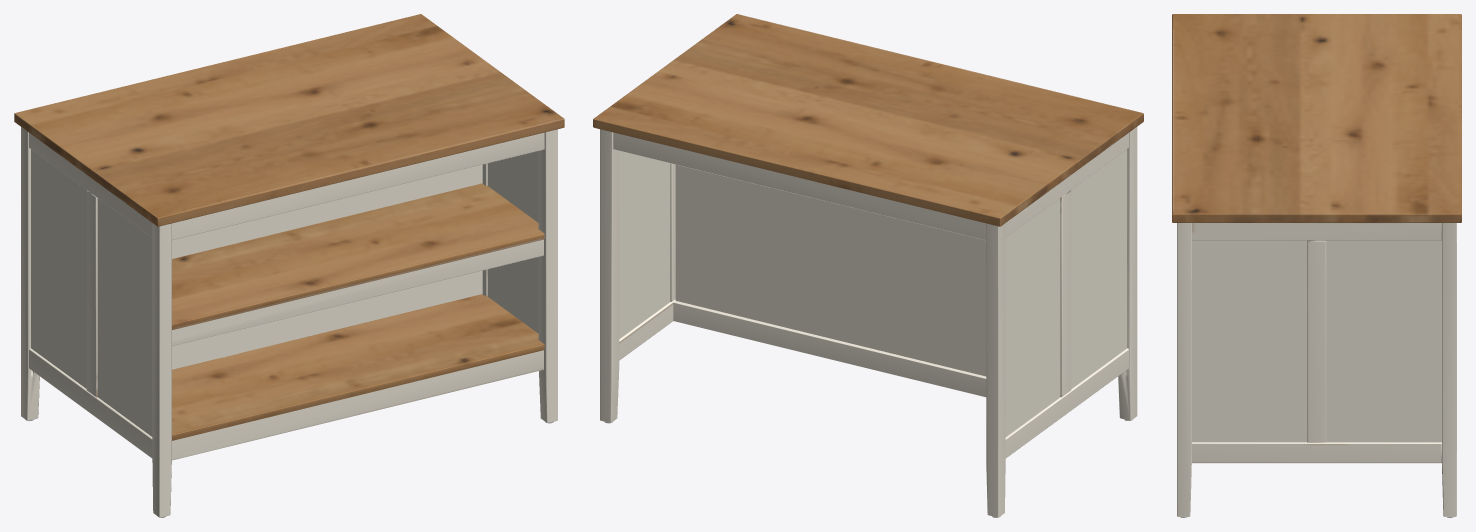
The model's file is 24 - TORNVIKEN Kitchen island - off-whiteoak 126x77 cm.glb.
The picture shows the model from 3 angles, left to right: view 1: azimuth 30°, elevation 25°; view 2: azimuth 150°, elevation 25°; view 3: azimuth 270°, elevation 25°; orthographic projection.
Parts seen in each view (by area): view 1: Mesh_0; view 2: Mesh_0; view 3: Mesh_0.
Part boxes in pixels (box(x1,y1,x2,y2)): Mesh_0: box(14, 14, 564, 517); Mesh_0: box(593, 14, 1143, 517); Mesh_0: box(1172, 14, 1461, 517).
Bounding box in the file's own units: 1.26 × 0.9 × 0.77.
Materials: 1 (1 with a texture image).
